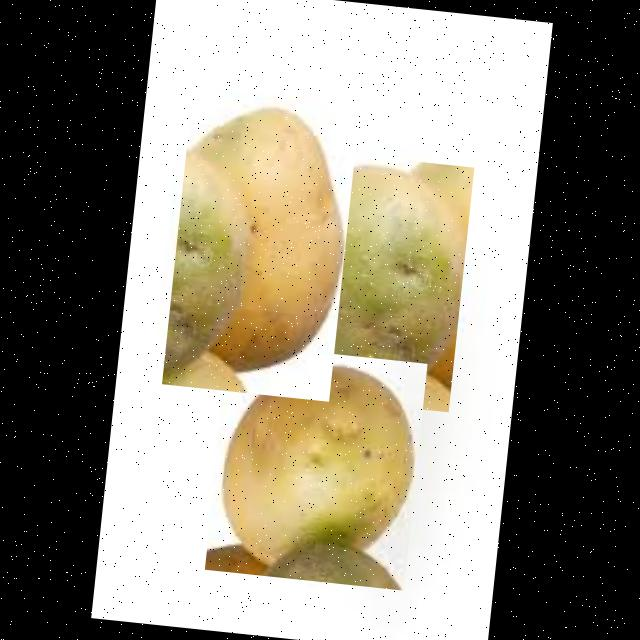Defected potato: (160, 95, 358, 401), (260, 148, 473, 412), (203, 342, 426, 590)
